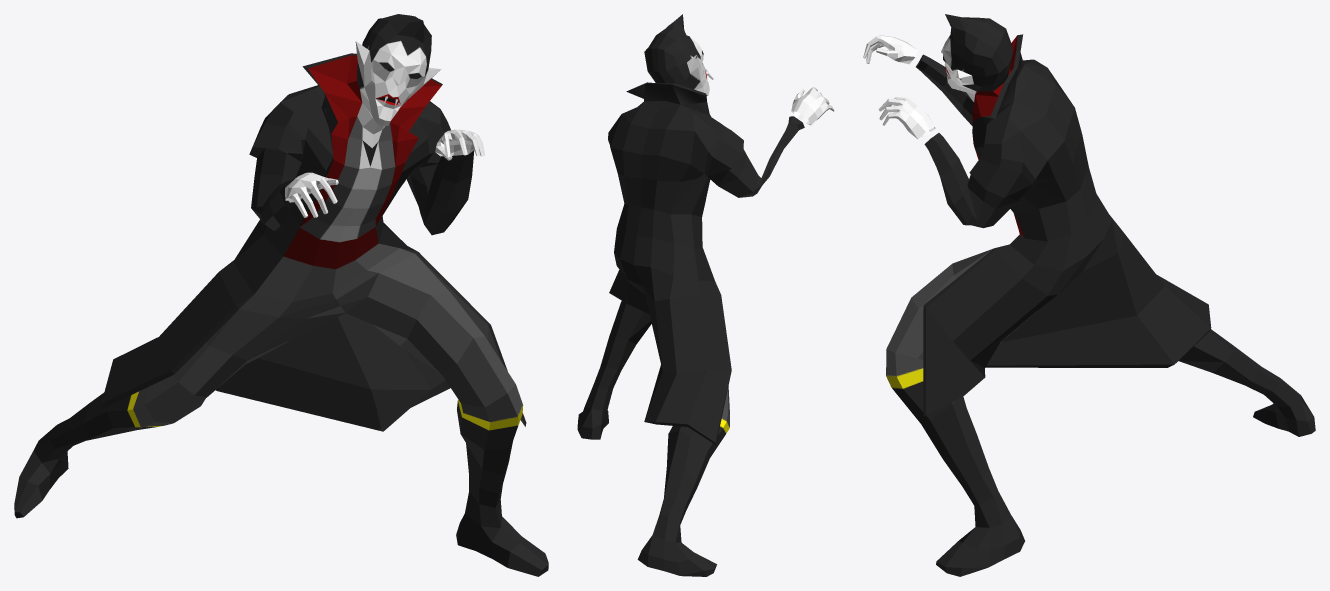
The model's file is VampireAttack(27).obj.
3 views of the same model, side by side, from view 1: azimuth 30°, elevation 25°; view 2: azimuth 150°, elevation 25°; view 3: azimuth 270°, elevation 25° (orthographic). The views are drawn at different scales.
Visible parts, largest first — view 1: Plane002; view 2: Plane002; view 3: Plane002.
Boxes of the visible parts, <box> form: Plane002: <box>14,14,548,576</box>; Plane002: <box>577,14,834,576</box>; Plane002: <box>863,14,1315,576</box>.
Size of the model in its own units: 71.22 by 110 by 89.1.
